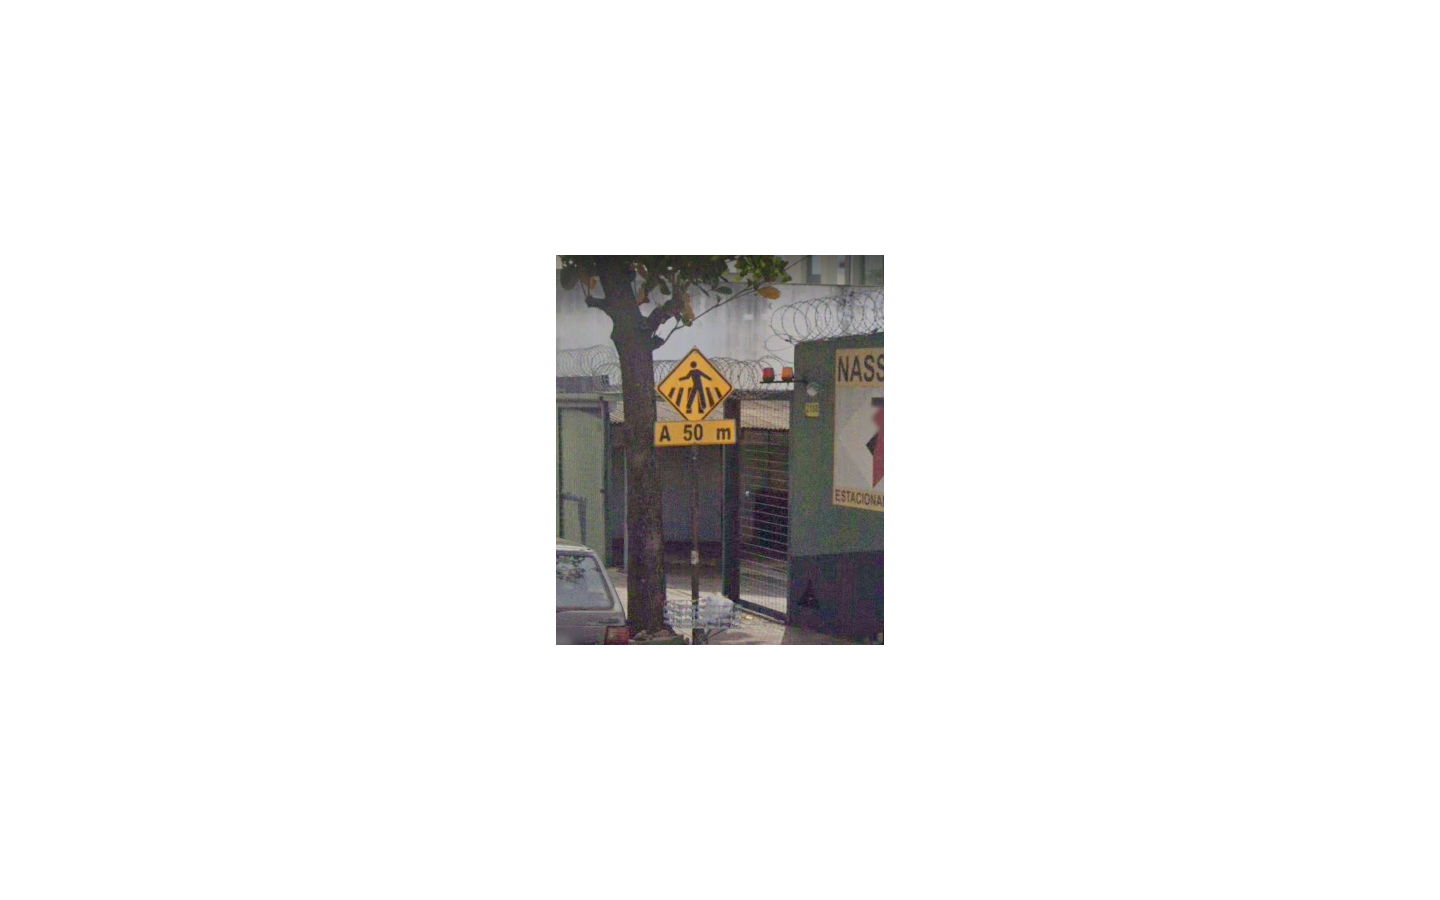t50m: (654, 347, 738, 447)
